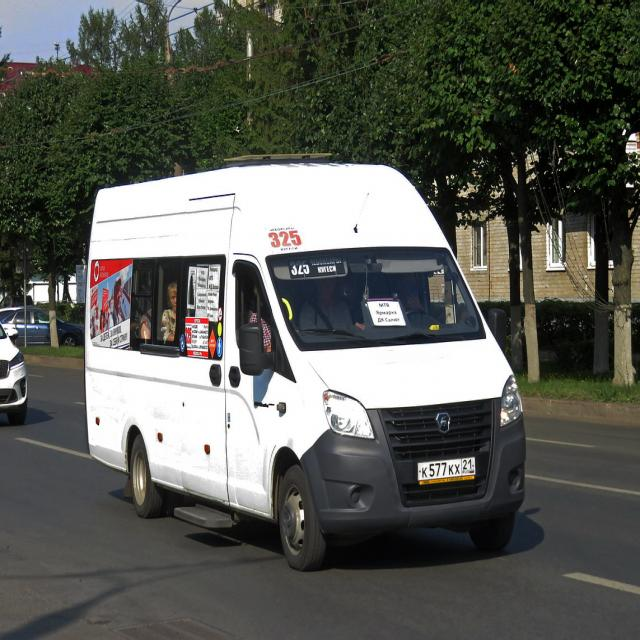number-of-bus: (267, 226, 305, 257), (290, 260, 312, 281)
